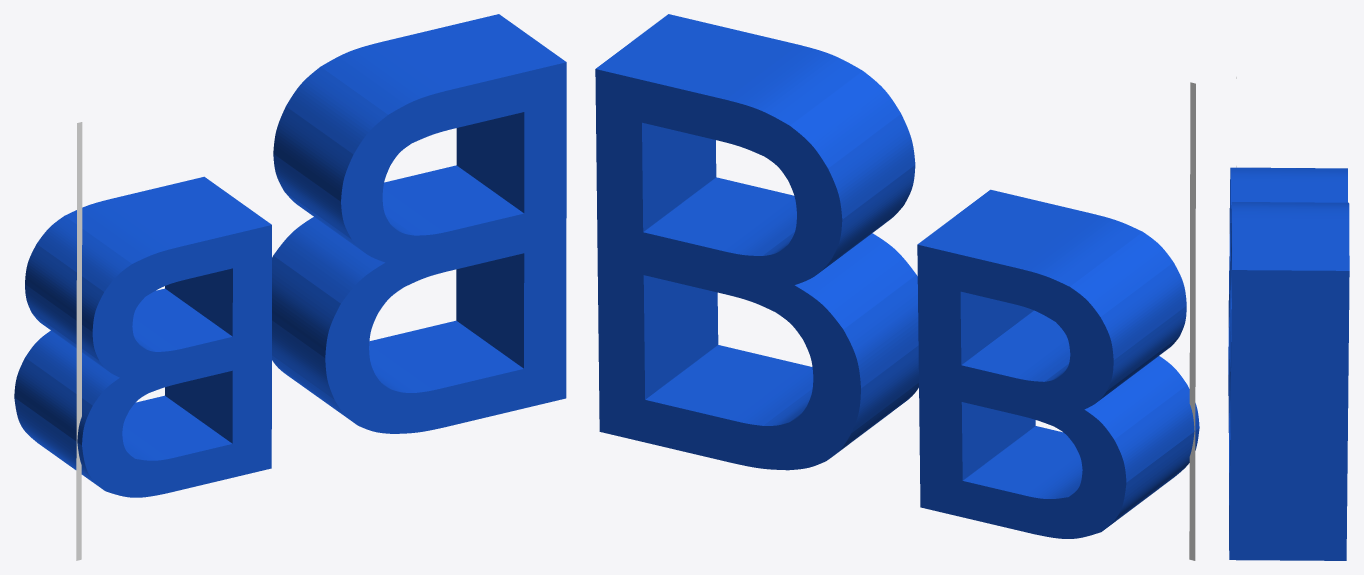
The picture shows the model from 3 angles, left to right: view 1: azimuth 30°, elevation 25°; view 2: azimuth 150°, elevation 25°; view 3: azimuth 270°, elevation 25°; orthographic projection. The views are drawn at different scales.
Visible parts, largest first — view 1: Mesh_0.001, Плоскость; view 2: Mesh_0.001, Плоскость; view 3: Mesh_0.001.
Part boxes in pixels (left/top/right/bottom): Mesh_0.001: left=14, top=14, right=566, bottom=497; Плоскость: left=76, top=122, right=82, bottom=560; Mesh_0.001: left=595, top=14, right=1199, bottom=538; Плоскость: left=1189, top=82, right=1195, bottom=560; Mesh_0.001: left=1228, top=167, right=1349, bottom=560.
Size of the model in its own units: 10.92 by 9.38 by 2.7.
